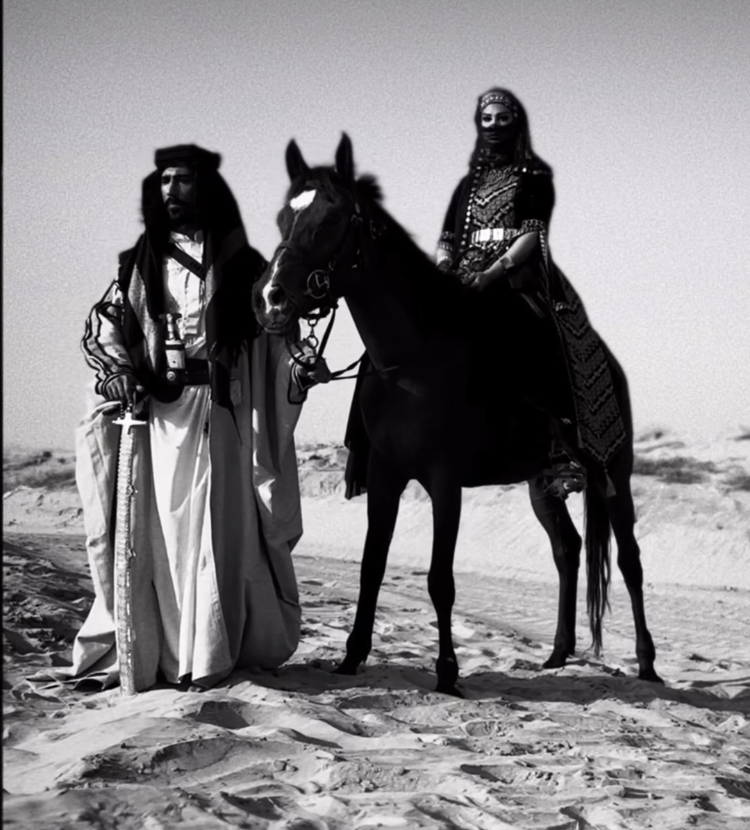Saudi_Founding_Day: (67, 135, 332, 691), (419, 81, 624, 496)
